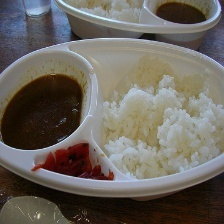rice: (64, 0, 144, 32)
